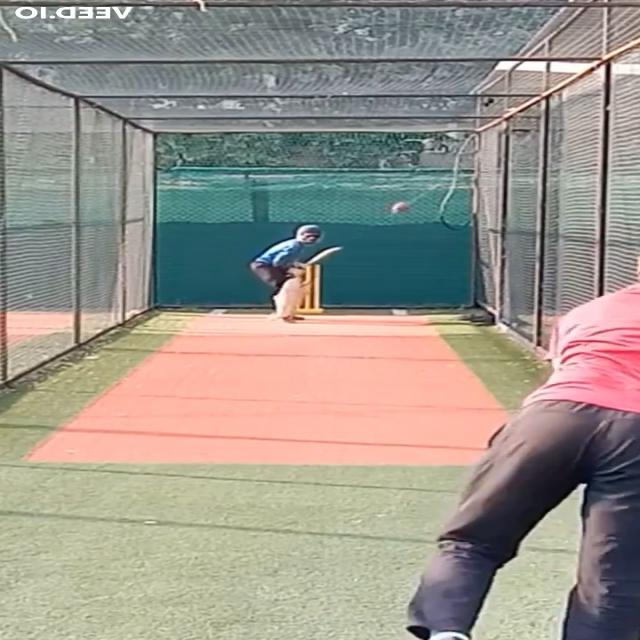ball: (388, 201, 412, 215)
stump: (296, 263, 324, 314)
